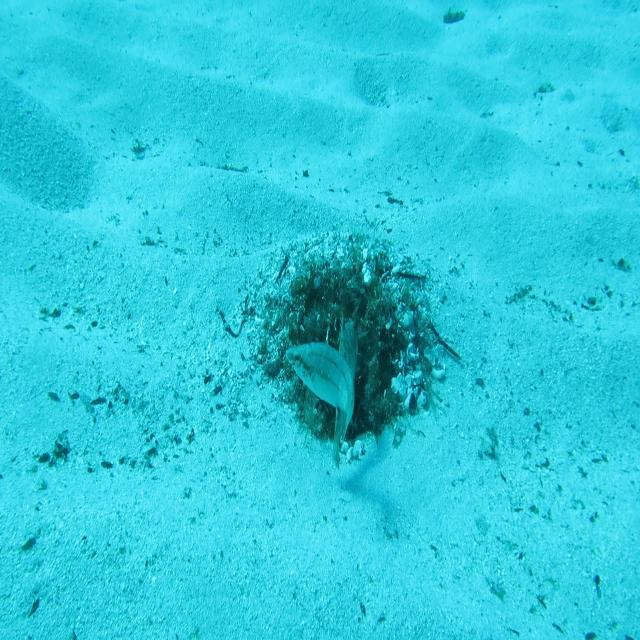FAN: (329, 310, 361, 473)
core_nest: (317, 281, 352, 312)
female: (284, 339, 356, 448)
nest: (239, 224, 453, 478)
vegetation: (442, 8, 466, 27)
